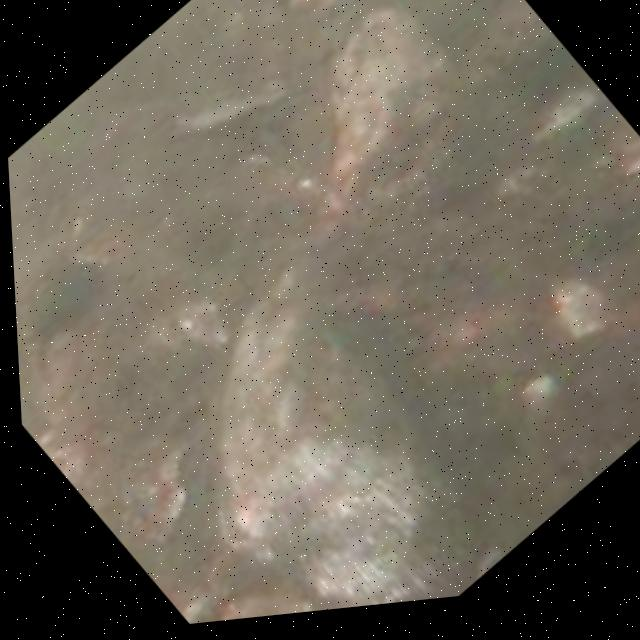Oyster-Indeterminate: (209, 302, 493, 602), (267, 0, 466, 294)
